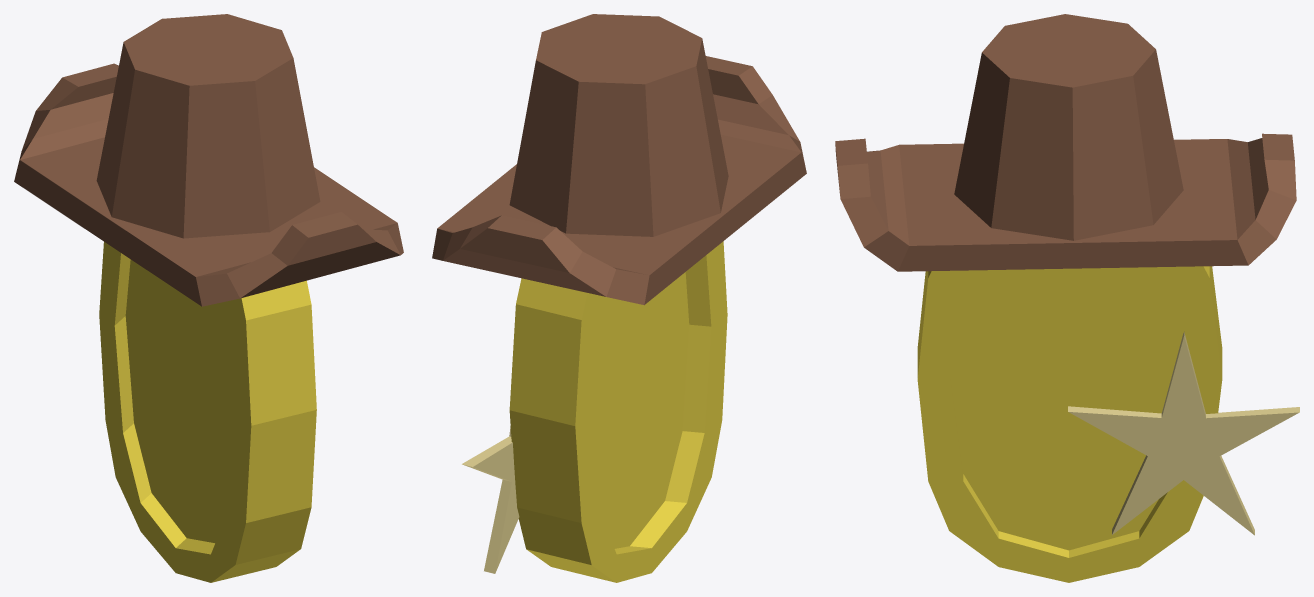
The model's file is SherriffCoin.fbx.
The picture shows the model from 3 angles, left to right: view 1: azimuth 30°, elevation 25°; view 2: azimuth 150°, elevation 25°; view 3: azimuth 270°, elevation 25°; orthographic projection.
Visible parts, largest first — view 1: Cylinder, Cube; view 2: Cylinder, Cube, Cylinder.001; view 3: Cylinder, Cube, Cylinder.001.
Part boxes in pixels (x1=…): Cylinder: x1=14, y1=14, x2=403, y2=306; Cube: x1=99, y1=242, x2=316, y2=582; Cylinder: x1=432, y1=14, x2=806, y2=305; Cube: x1=509, y1=241, x2=727, y2=582; Cylinder.001: x1=462, y1=426, x2=519, y2=573; Cylinder: x1=835, y1=14, x2=1296, y2=271; Cube: x1=917, y1=266, x2=1222, y2=582; Cylinder.001: x1=1068, y1=331, x2=1299, y2=535.
Size of the model in its own units: 122 by 274 by 223.
